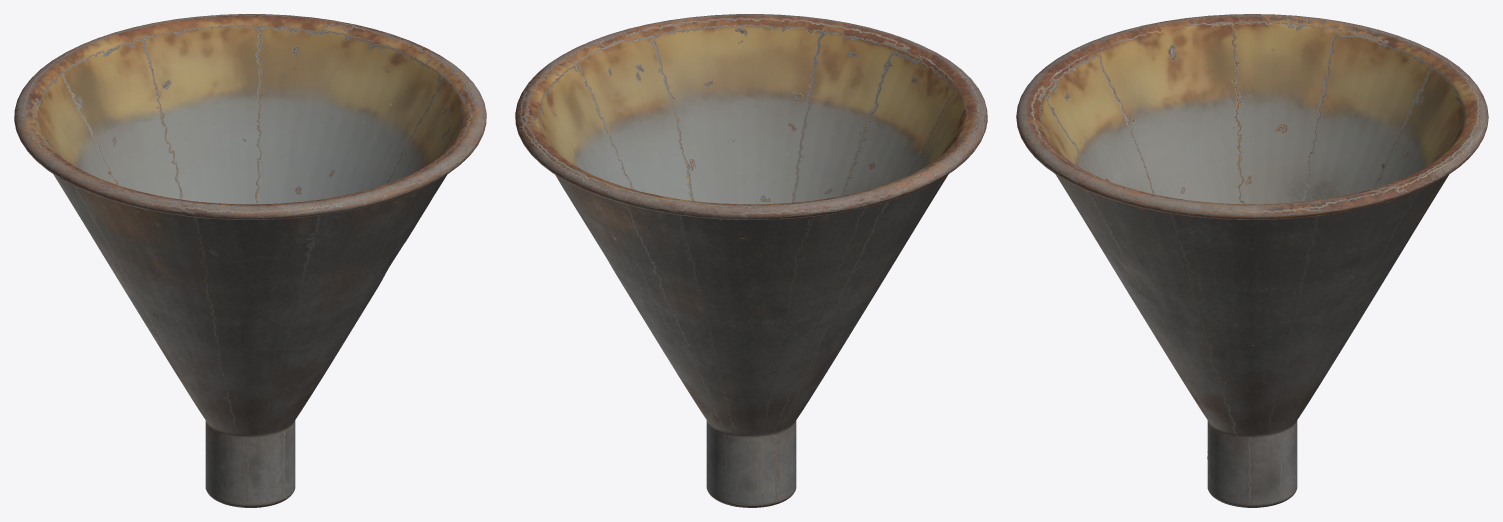
3 renders of one model, left to right at view 1: azimuth 30°, elevation 25°; view 2: azimuth 150°, elevation 25°; view 3: azimuth 270°, elevation 25°, orthographic.
Size of the model in its own units: 1.51 by 1.34 by 1.51.
1 material, 1 textured.
